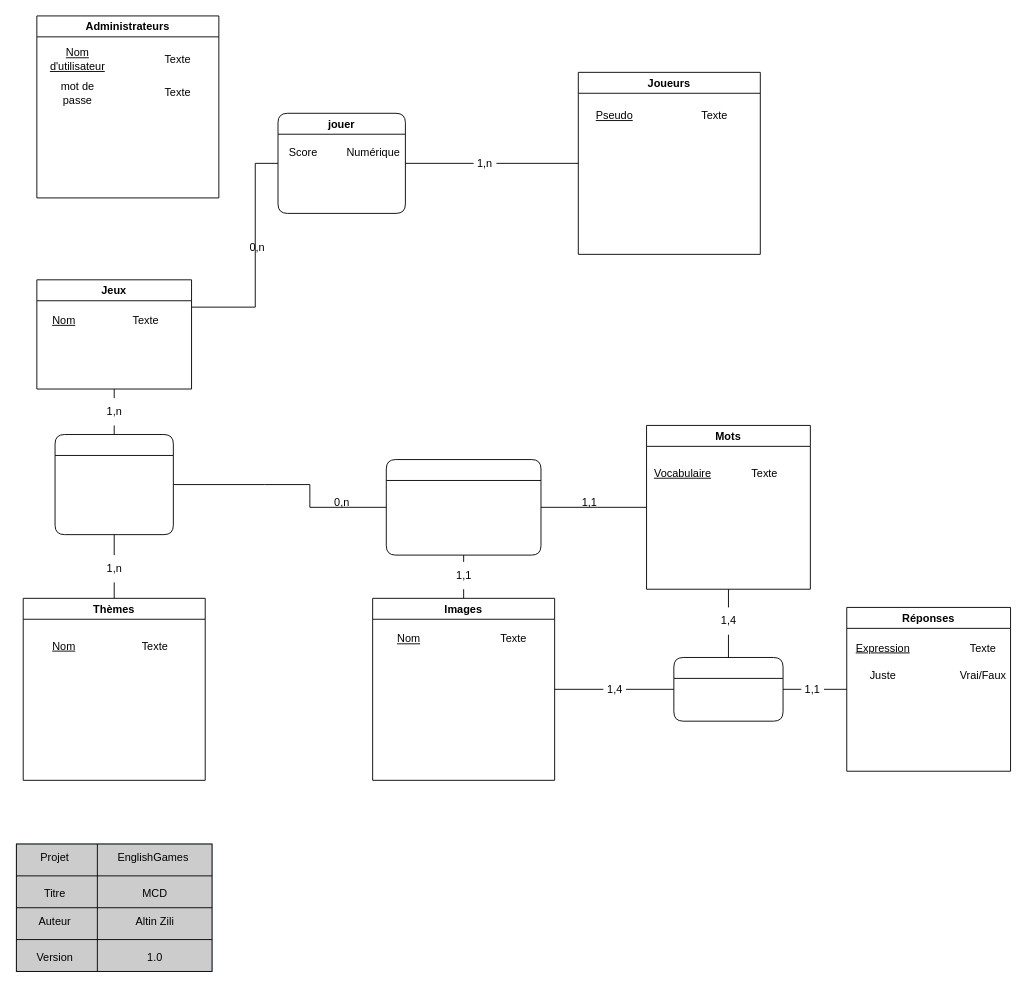
This 1026x988 diagram has some shape labels left out. The centre of each missing label's shape, as x and y in pixels:
Composer: the point at 463,507
Comprendre: the point at 113,484
Proposer: the point at 728,689
